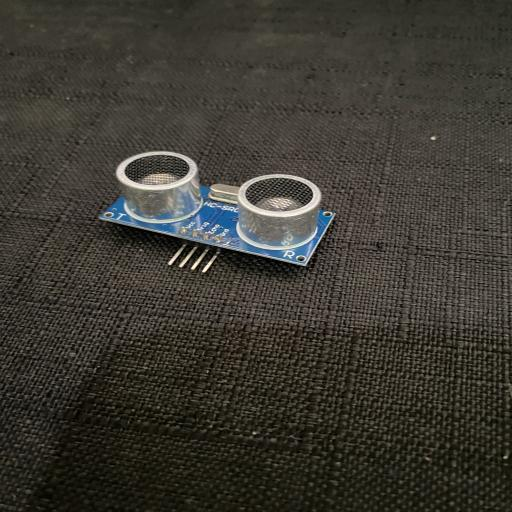Ultrasonic Sensor: (98, 150, 336, 274)
